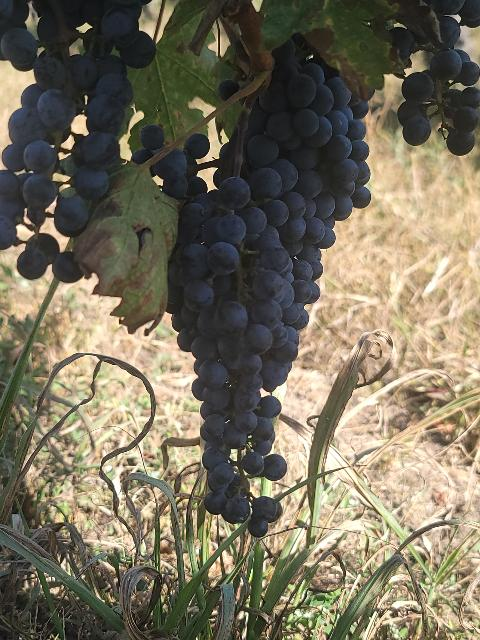grapes: (169, 39, 370, 522), (390, 0, 480, 155)
